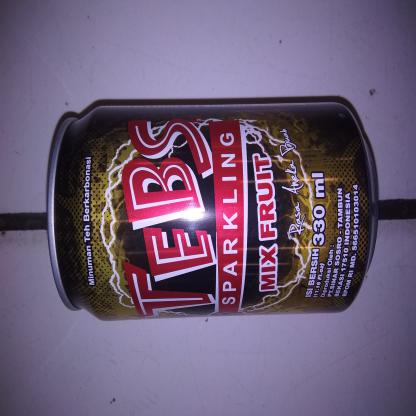can: (44, 89, 388, 327)
